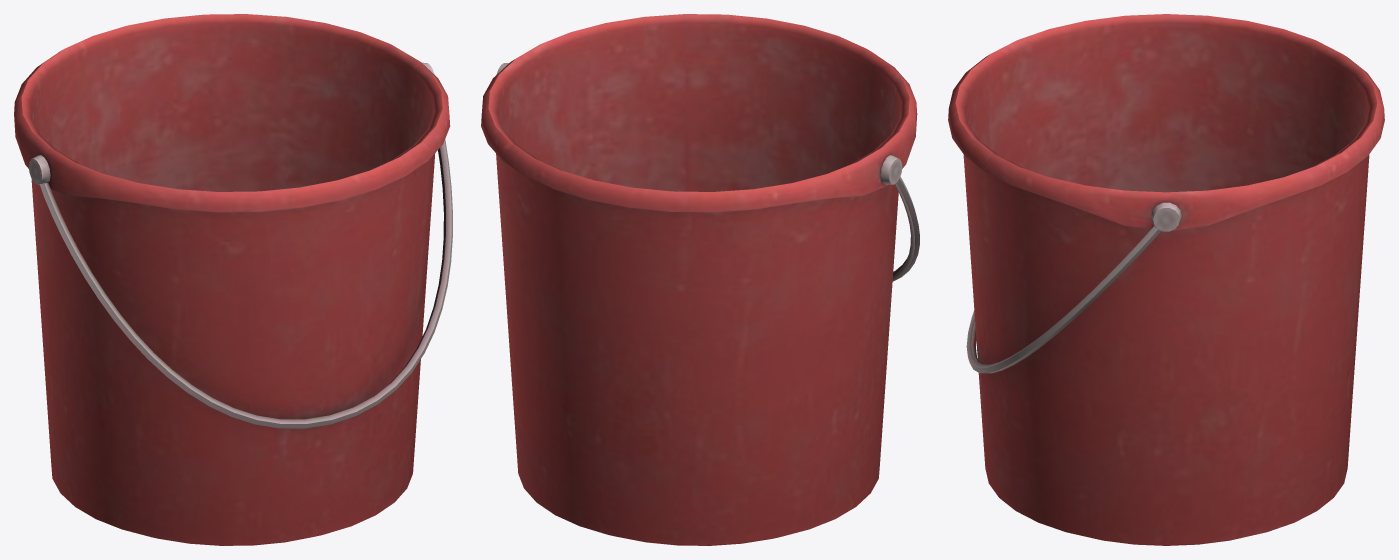
The model's file is bucket_optimised.glb.
3 renders of one model, left to right at view 1: azimuth 30°, elevation 25°; view 2: azimuth 150°, elevation 25°; view 3: azimuth 270°, elevation 25°, orthographic.
Bounding box in the file's own units: 0.4719 × 0.4283 × 0.4543.
1 material, 1 textured.
